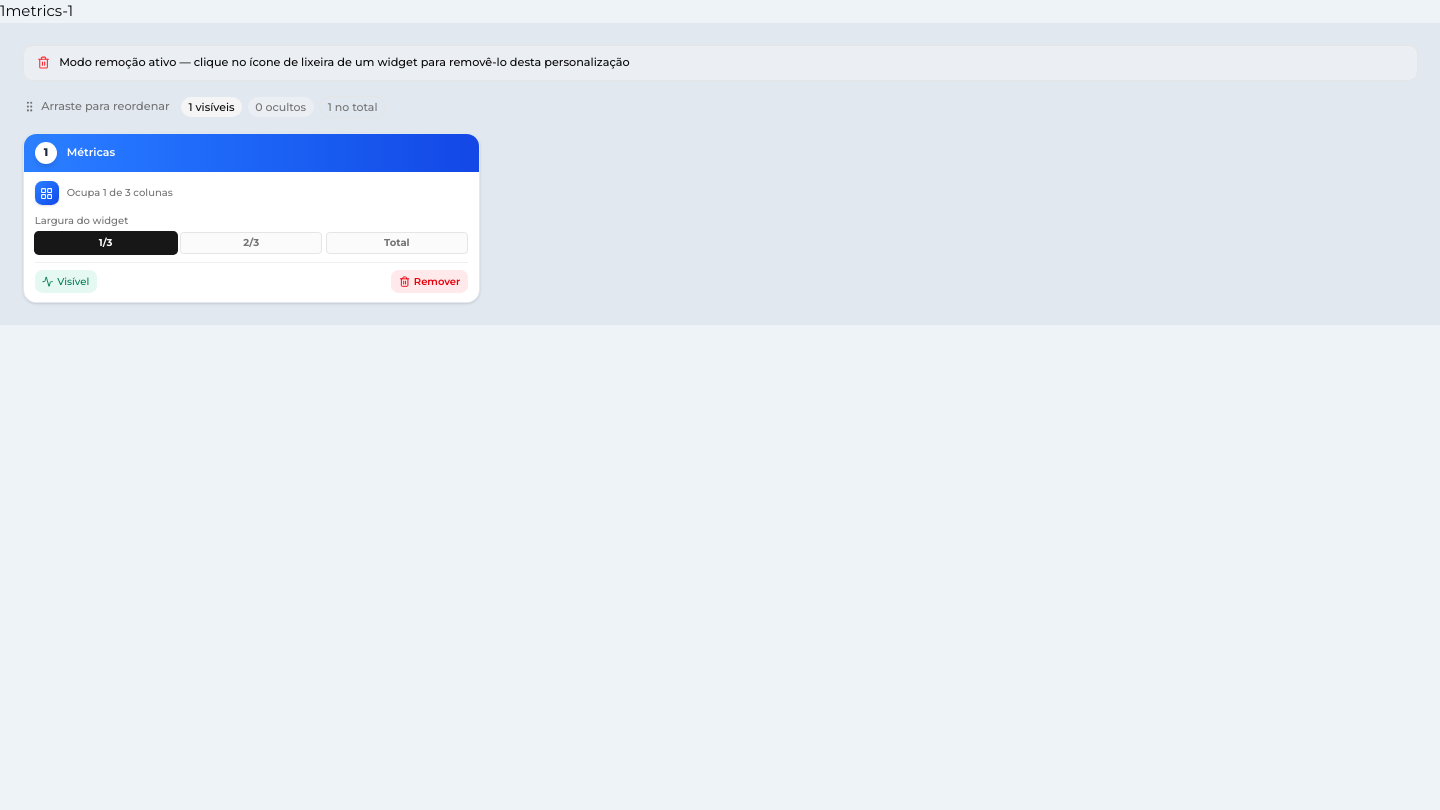
Scenario: DashboardWidgetEditorBody — remoção de widget (confirmação dupla) › abrir a confirmação não remove o widget do rascunho
The width and height of the screenshot is (1440, 810).
What coordinates should you click on to do the following:
click the button with aria-label "remover widget métricas"
I would click on:
 (430, 281)
Its box is [391, 270, 468, 292].
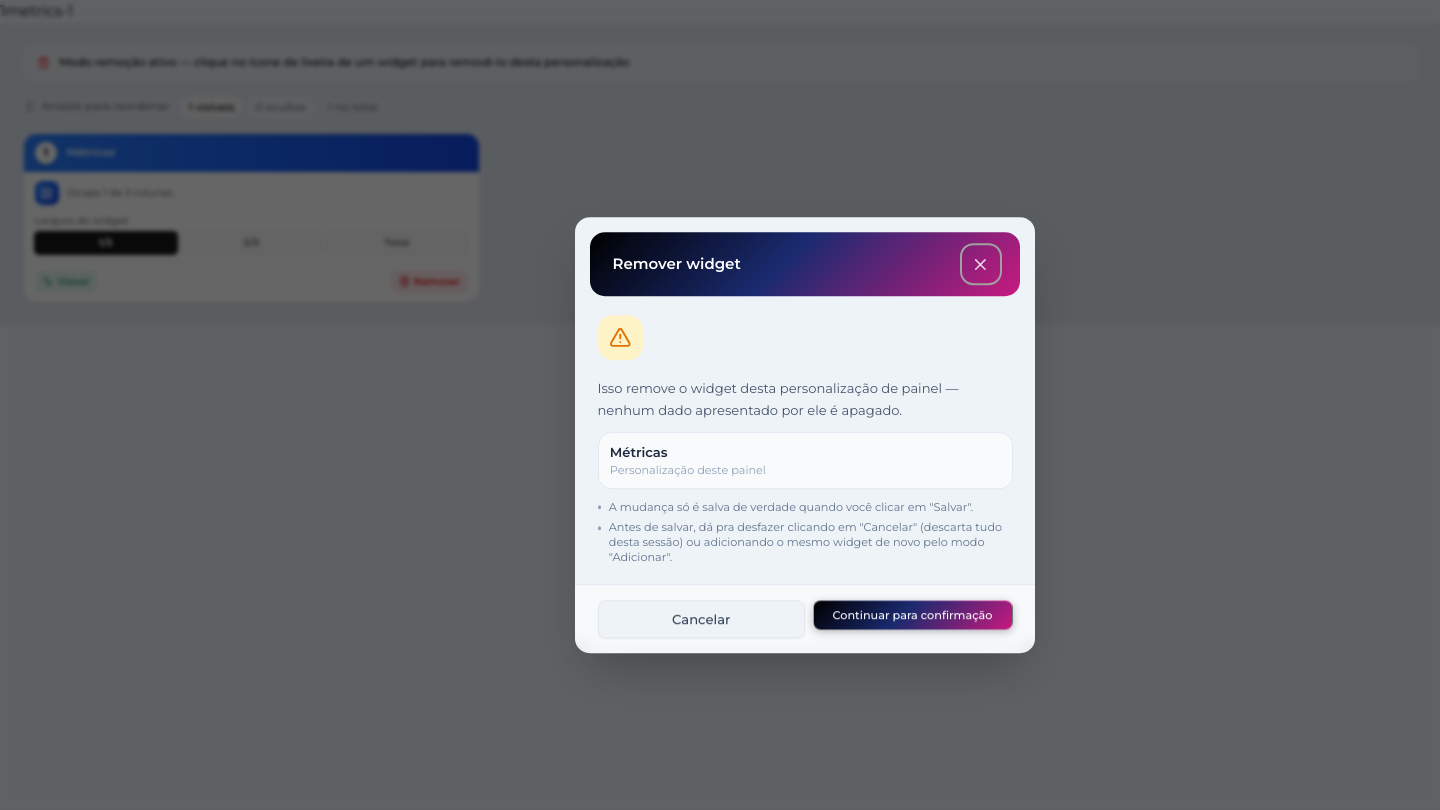
Expected: the text with test id "draft-count" reads "1", [0, 1, 5, 20]
Expected: the text "personalização de painel" is shown, [598, 380, 958, 418]
